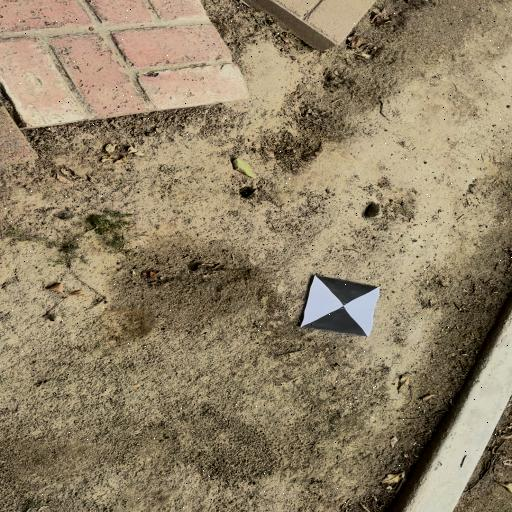target: (300, 275, 380, 336)
